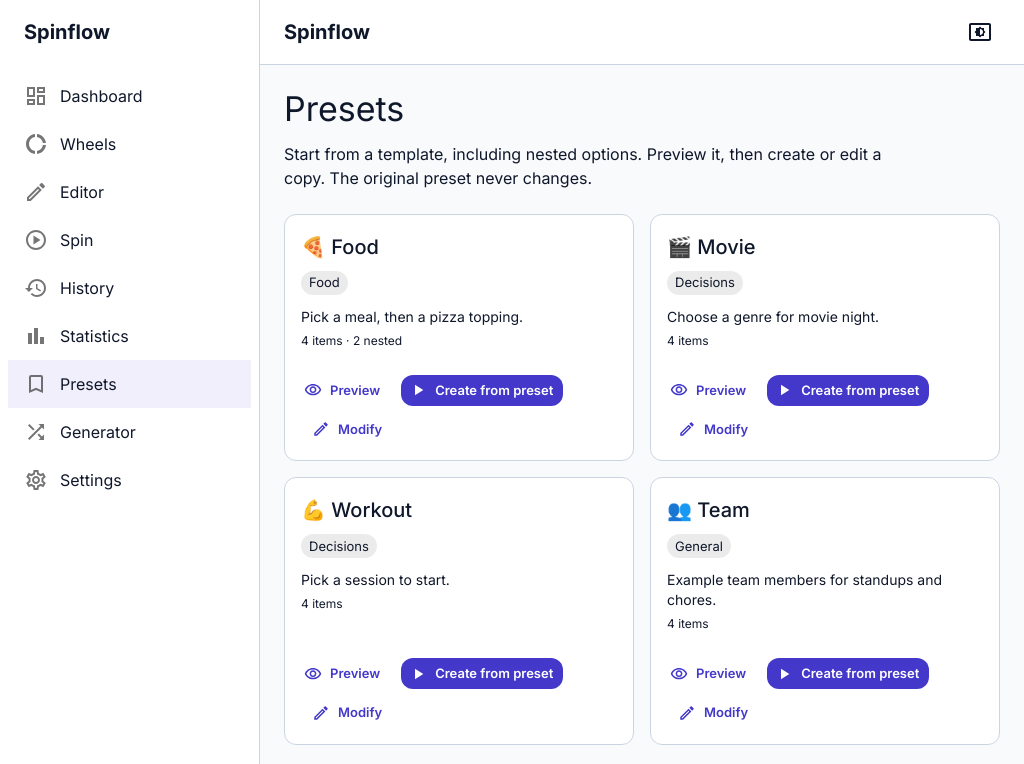
Test: PresetsScreen › saves a previewed preset as a user wheel
What coordinates should you click on to do the following:
click the button with aria-label "Preview Team"
I would click on:
 (709, 674)
Its box is [667,658,751,689].
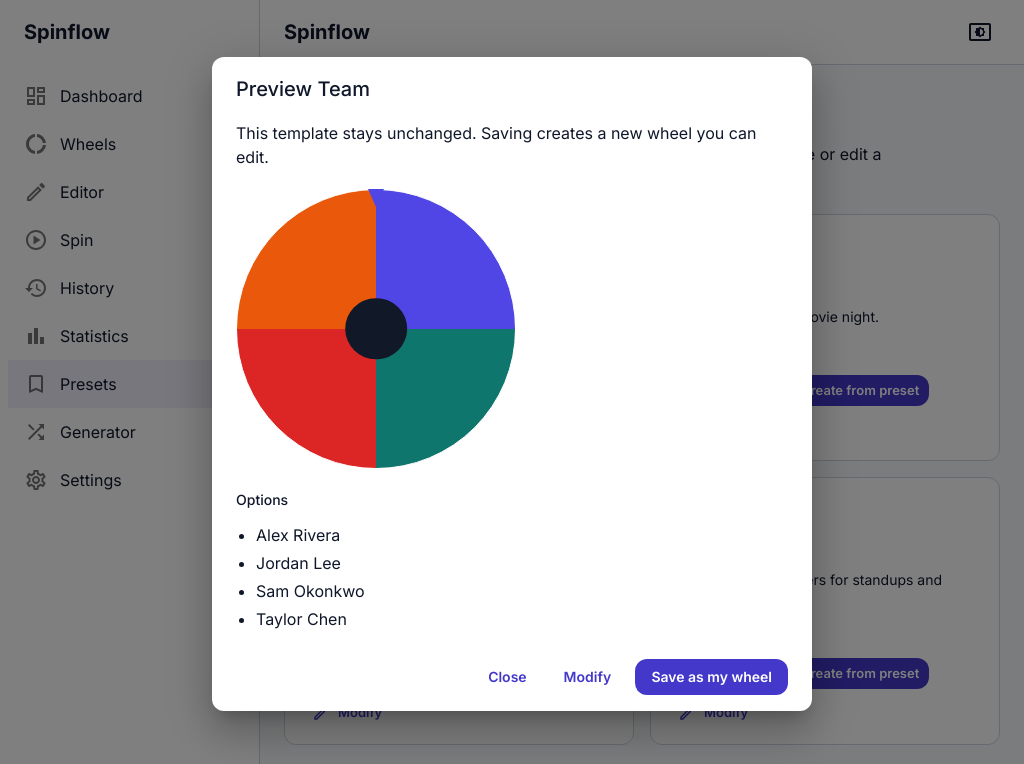
What coordinates should you click on to do the following:
click the button with aria-label "Save Team as my wheel"
I would click on:
 (712, 677)
Its box is [635,659,788,695].
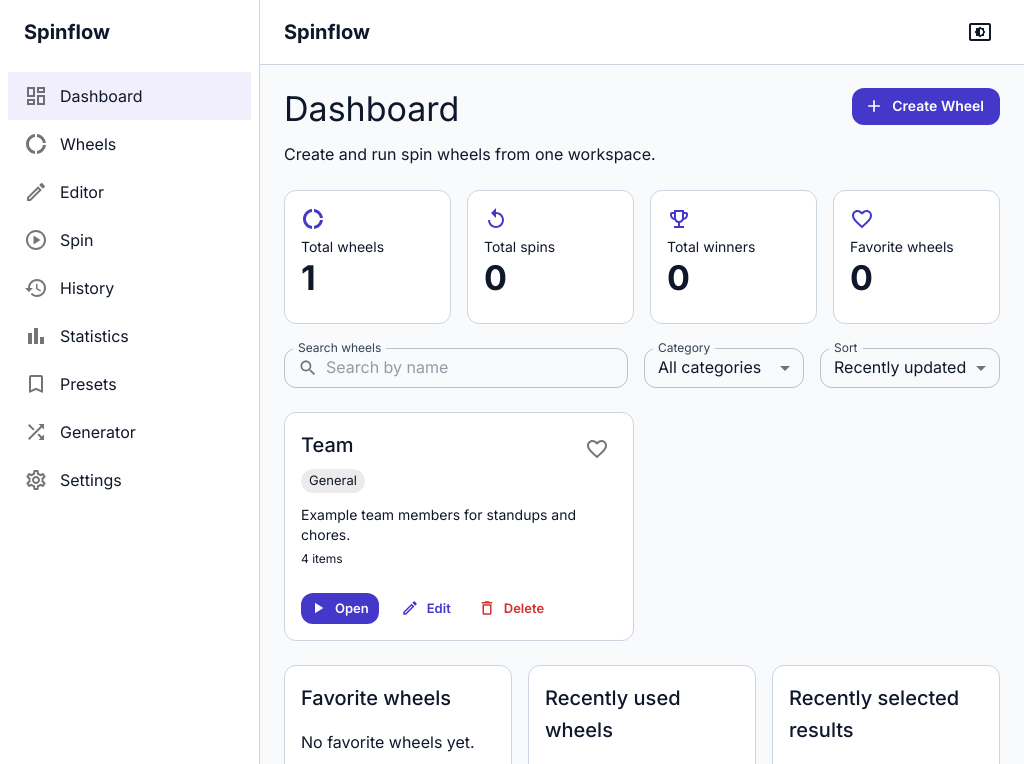
Now the heading "Team" is shown, box [301,433,354,457]
Now the heading "Dashboard" is shown, box [284,88,459,129]
